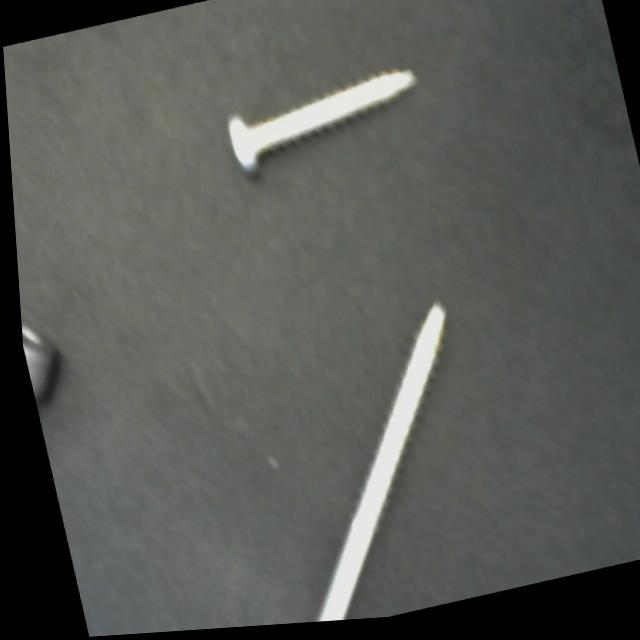SheetMetalScrew: (203, 50, 445, 209)
SocketHeadCapScrew: (15, 279, 82, 438)
WoodScrew: (205, 283, 512, 630)
